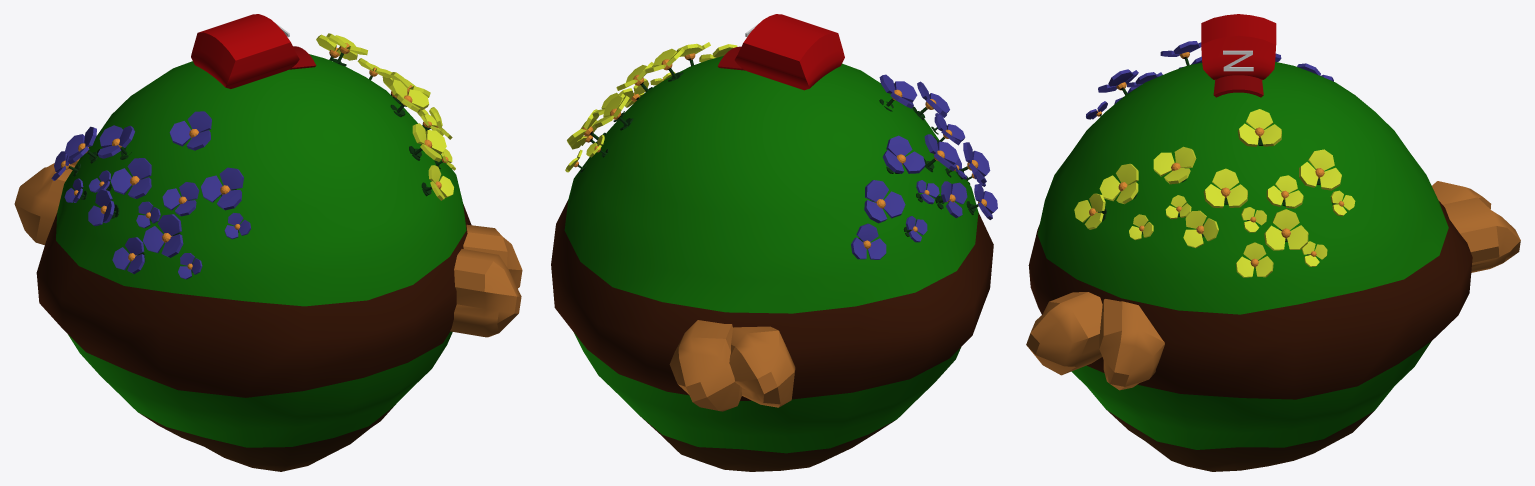
Rendered from Galaxy_Planet.fbx.
3 views of the same model, side by side, from view 1: azimuth 30°, elevation 25°; view 2: azimuth 150°, elevation 25°; view 3: azimuth 270°, elevation 25° (orthographic). The views are drawn at different scales.
Parts seen in each view (by area): view 1: polySurface633; view 2: polySurface633; view 3: polySurface633.
Part boxes in pixels (x1,y1,x2,y2): polySurface633: [14, 14, 522, 471]; polySurface633: [551, 14, 997, 471]; polySurface633: [1026, 14, 1520, 471].
Bounding box in the file's own units: 39.77 × 39.65 × 43.56.
